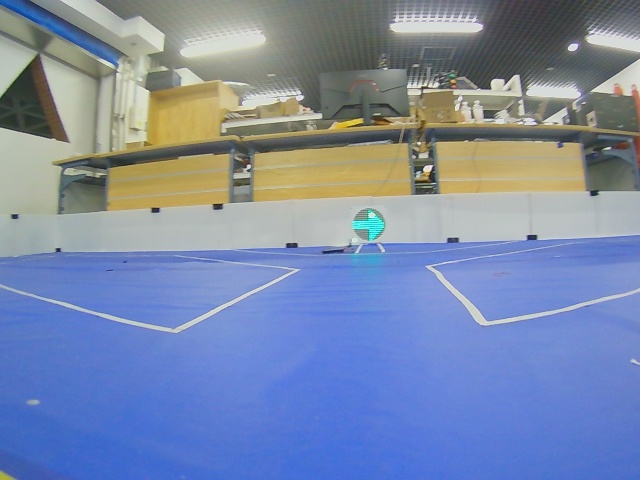right_green: (352, 208, 385, 241)
